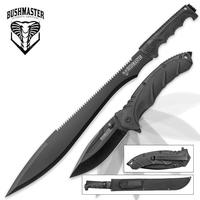knife: (4, 8, 197, 198)
